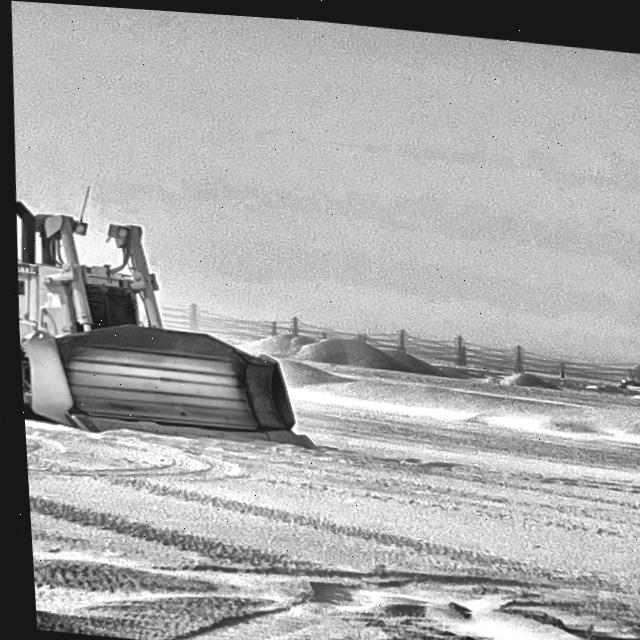buldozerpayloadergrader: (7, 141, 316, 457)
